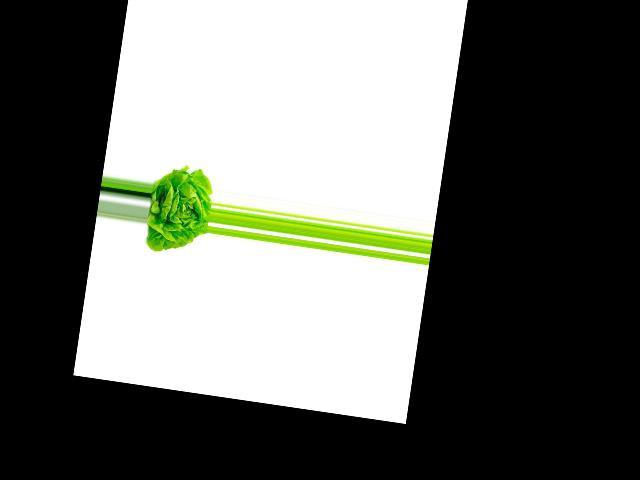lettuce: (142, 164, 215, 260)
